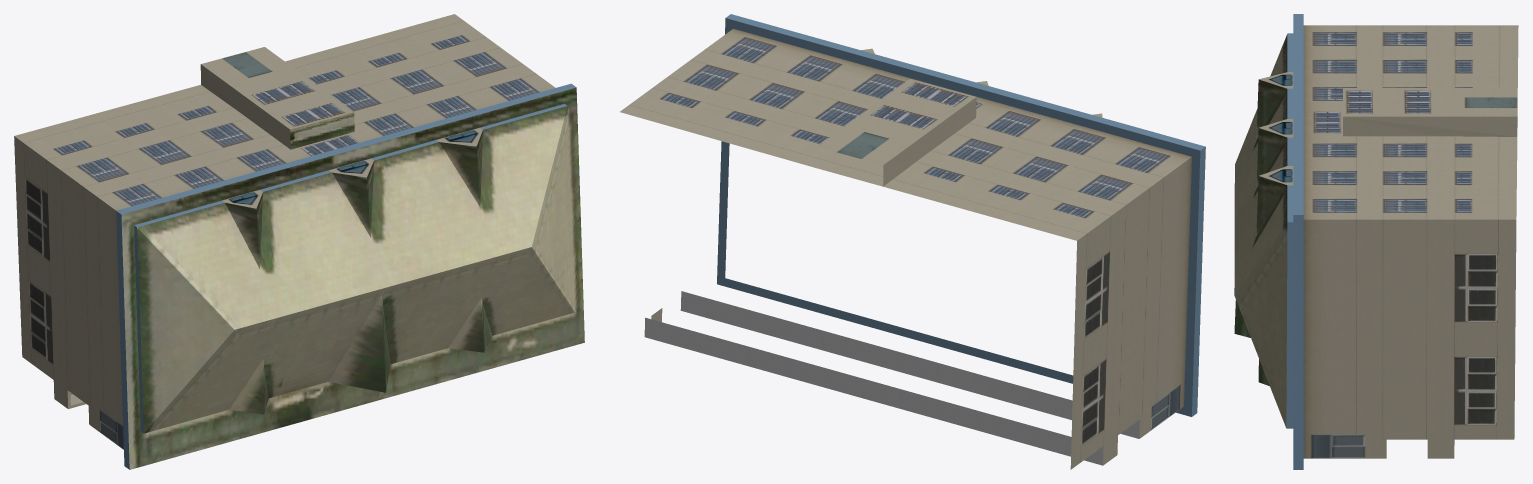
3 renders of one model, left to right at view 1: azimuth 30°, elevation 25°; view 2: azimuth 150°, elevation 25°; view 3: azimuth 270°, elevation 25°, orthographic. The views are drawn at different scales.
Visible parts, largest first — view 1: Group_MatrixTransform_i96190_Geometry_17, Group_MatrixTransform_i96190_Geometry_19, Group_MatrixTransform_i96190_Geometry_6, Group_MatrixTransform_i96190_Geometry_9, Group_MatrixTransform_i96190_Geometry_11, Group_MatrixTransform_i96190_Geometry_7, Group_MatrixTransform_i96190_Geometry_8, Group_MatrixTransform_i96190_Geometry_15, Group_MatrixTransform_i96190_Geometry_12, Group_MatrixTransform_i96190_Geometry_14, Group_MatrixTransform_i96190_Geometry_13, Group_MatrixTransform_i96190_Geometry_0 (+4 smaller); view 2: Group_MatrixTransform_i96190_Geometry_16, Group_MatrixTransform_i96190_Geometry_6, Group_MatrixTransform_i96190_Geometry_15, Group_MatrixTransform_i96190_Geometry_11, Group_MatrixTransform_i96190_Geometry_9, Group_MatrixTransform_i96190_Geometry_8, Group_MatrixTransform_i96190_Geometry_7, Group_MatrixTransform_i96190_Geometry_12, Group_MatrixTransform_i96190_Geometry_14, Group_MatrixTransform_i96190_Geometry_0, Group_MatrixTransform_i96190_Geometry_13, Group_MatrixTransform_i96190_Geometry_2; view 3: Group_MatrixTransform_i96190_Geometry_8, Group_MatrixTransform_i96190_Geometry_7, Group_MatrixTransform_i96190_Geometry_12, Group_MatrixTransform_i96190_Geometry_17, Group_MatrixTransform_i96190_Geometry_11, Group_MatrixTransform_i96190_Geometry_6, Group_MatrixTransform_i96190_Geometry_9, Group_MatrixTransform_i96190_Geometry_15, Group_MatrixTransform_i96190_Geometry_13, Group_MatrixTransform_i96190_Geometry_14, Group_MatrixTransform_i96190_Geometry_2, Group_MatrixTransform_i96190_Geometry_0 (+2 smaller).
Boxes of the visible parts, box(x1,y1,x2,y2) form: Group_MatrixTransform_i96190_Geometry_17: box(137, 106, 575, 433); Group_MatrixTransform_i96190_Geometry_19: box(121, 87, 584, 469); Group_MatrixTransform_i96190_Geometry_6: box(14, 14, 490, 163); Group_MatrixTransform_i96190_Geometry_9: box(52, 41, 526, 189); Group_MatrixTransform_i96190_Geometry_11: box(88, 67, 555, 210); Group_MatrixTransform_i96190_Geometry_7: box(14, 136, 58, 383); Group_MatrixTransform_i96190_Geometry_8: box(52, 93, 273, 409); Group_MatrixTransform_i96190_Geometry_15: box(116, 83, 576, 469); Group_MatrixTransform_i96190_Geometry_12: box(88, 190, 122, 425); Group_MatrixTransform_i96190_Geometry_14: box(235, 72, 353, 129); Group_MatrixTransform_i96190_Geometry_13: box(53, 64, 290, 408); Group_MatrixTransform_i96190_Geometry_0: box(201, 47, 298, 89); Group_MatrixTransform_i96190_Geometry_16: box(644, 291, 1139, 465); Group_MatrixTransform_i96190_Geometry_6: box(620, 84, 1115, 240); Group_MatrixTransform_i96190_Geometry_15: box(717, 14, 1205, 416); Group_MatrixTransform_i96190_Geometry_11: box(695, 28, 1191, 184); Group_MatrixTransform_i96190_Geometry_9: box(658, 56, 1153, 211); Group_MatrixTransform_i96190_Geometry_8: box(816, 130, 1154, 441); Group_MatrixTransform_i96190_Geometry_7: box(1070, 212, 1116, 469); Group_MatrixTransform_i96190_Geometry_12: box(1147, 157, 1191, 408); Group_MatrixTransform_i96190_Geometry_14: box(853, 79, 975, 138); Group_MatrixTransform_i96190_Geometry_0: box(817, 120, 918, 164); Group_MatrixTransform_i96190_Geometry_13: box(651, 97, 1117, 465); Group_MatrixTransform_i96190_Geometry_2: box(1139, 381, 1184, 438); Group_MatrixTransform_i96190_Geometry_8: box(1374, 136, 1496, 439); Group_MatrixTransform_i96190_Geometry_7: box(1444, 219, 1516, 439); Group_MatrixTransform_i96190_Geometry_12: box(1303, 219, 1374, 434); Group_MatrixTransform_i96190_Geometry_17: box(1234, 34, 1287, 427); Group_MatrixTransform_i96190_Geometry_11: box(1303, 25, 1374, 219); Group_MatrixTransform_i96190_Geometry_6: box(1444, 25, 1518, 219); Group_MatrixTransform_i96190_Geometry_9: box(1374, 25, 1444, 219); Group_MatrixTransform_i96190_Geometry_15: box(1286, 14, 1303, 469); Group_MatrixTransform_i96190_Geometry_13: box(1343, 116, 1517, 458); Group_MatrixTransform_i96190_Geometry_14: box(1343, 88, 1449, 116); Group_MatrixTransform_i96190_Geometry_2: box(1303, 434, 1386, 458); Group_MatrixTransform_i96190_Geometry_0: box(1450, 88, 1517, 116).
Bounding box in the file's own units: 25.34 × 14.53 × 13.78.
20 materials, 20 textured.
